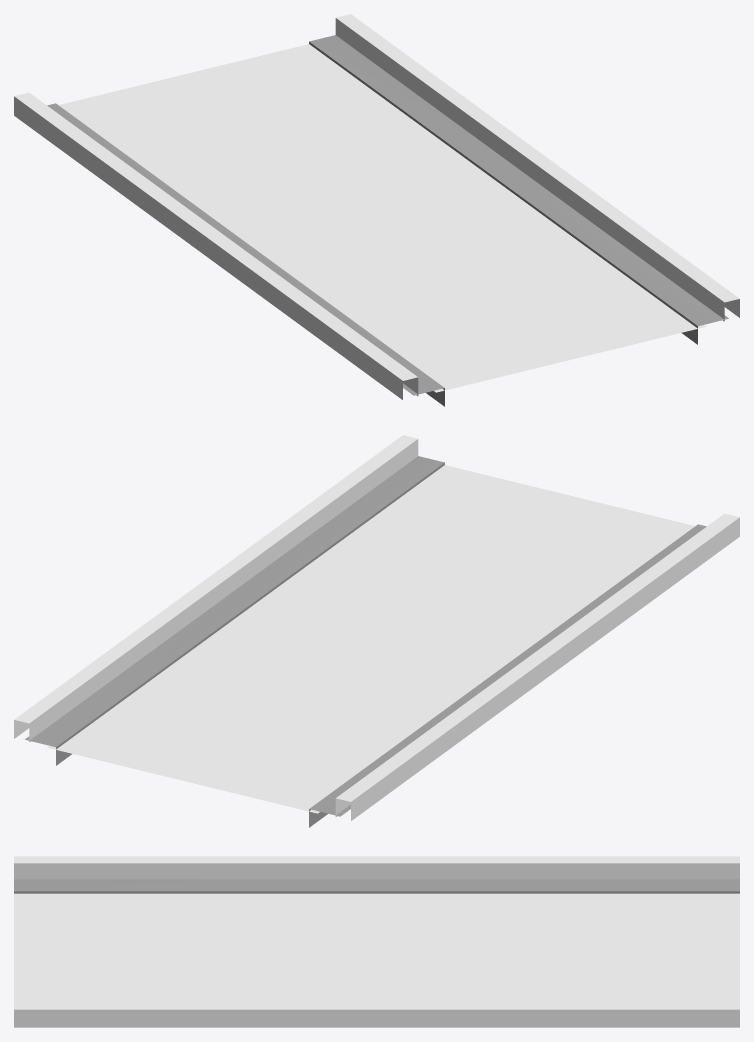
Rendered from road_1.fbx.
3 views of the same model, one above another, from view 1: azimuth 30°, elevation 25°; view 2: azimuth 150°, elevation 25°; view 3: azimuth 270°, elevation 25° (orthographic). The views are drawn at different scales.
Parts seen in each view (by area): view 1: road_1; view 2: road_1; view 3: road_1.
Part boxes in pixels (box(x1,y1,x2,y2)): road_1: box(14, 14, 739, 406); road_1: box(14, 435, 739, 827); road_1: box(14, 856, 739, 1027).
Bounding box in the file's own units: 2 × 0.2052 × 4.
